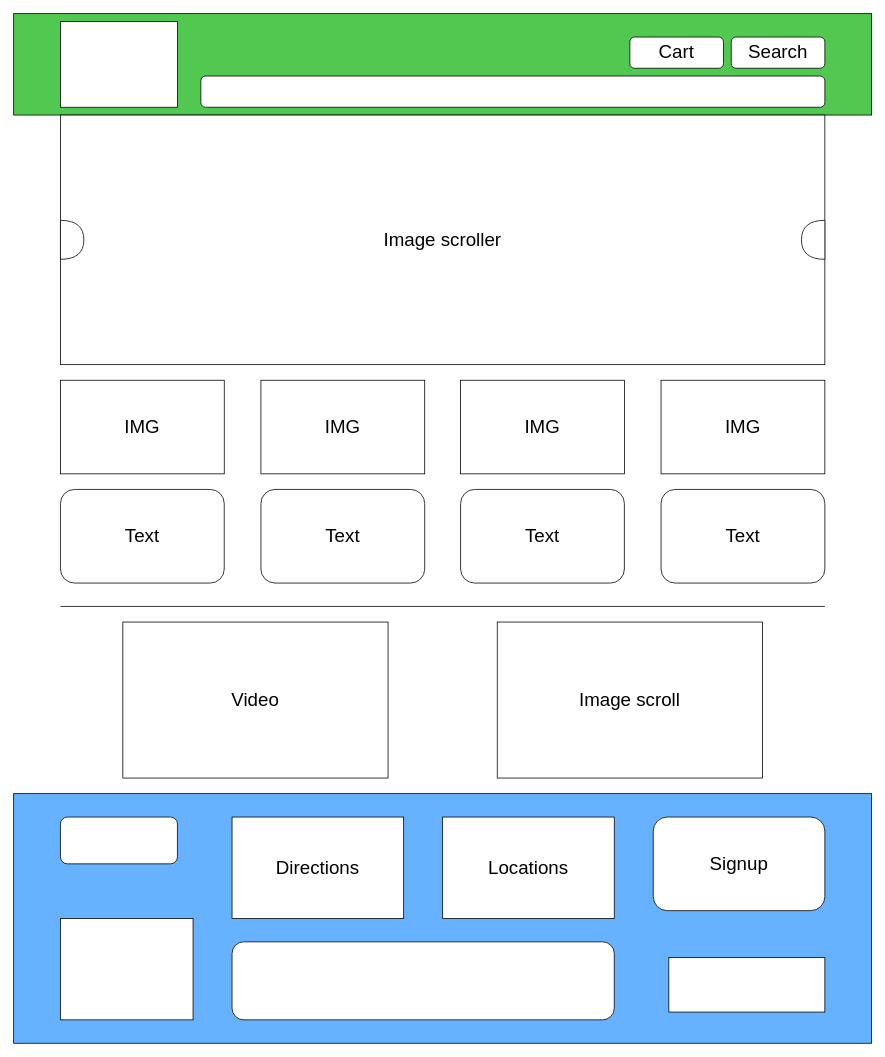
Image size: 885x1057. Some labels were removed from this diagram. The centre of each missing label's shape, as x and y in pixels:
"About & Links" belongs at point 422,980.
"Global Nav Bar" belongs at point 512,91.
"LOGO" belongs at point 118,64.
"Social Links" belongs at point 118,840.
"Sponsor" belongs at point 746,984.
"Supporters" belongs at point 126,969.
